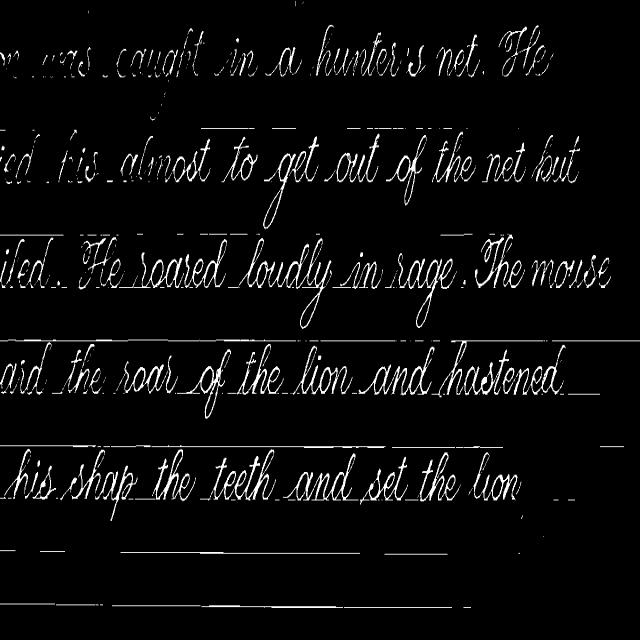noise: (110, 601, 453, 609), (119, 548, 362, 558), (0, 444, 386, 448), (0, 338, 300, 343), (450, 340, 640, 346), (390, 445, 504, 450), (0, 602, 106, 607), (381, 549, 448, 556), (136, 230, 184, 238), (40, 547, 65, 555), (0, 233, 64, 236), (440, 231, 473, 236), (202, 127, 255, 130), (200, 233, 247, 236), (599, 444, 624, 449), (310, 340, 406, 341), (346, 126, 361, 130), (80, 233, 98, 236), (270, 127, 296, 129), (366, 127, 407, 128), (438, 127, 452, 129), (0, 128, 6, 132), (416, 127, 424, 130), (428, 127, 432, 130)
not-noise: (0, 234, 609, 297), (0, 345, 564, 402), (116, 24, 492, 84), (263, 130, 386, 228), (199, 461, 463, 501), (4, 455, 198, 504), (384, 132, 476, 205), (480, 135, 580, 184), (120, 136, 211, 182), (0, 340, 66, 394), (497, 25, 554, 78), (0, 47, 94, 78), (40, 147, 115, 184), (60, 341, 104, 394), (300, 261, 332, 329), (0, 133, 42, 183), (466, 465, 522, 500), (225, 136, 258, 179), (416, 281, 438, 328), (311, 238, 320, 260), (314, 263, 321, 278)
